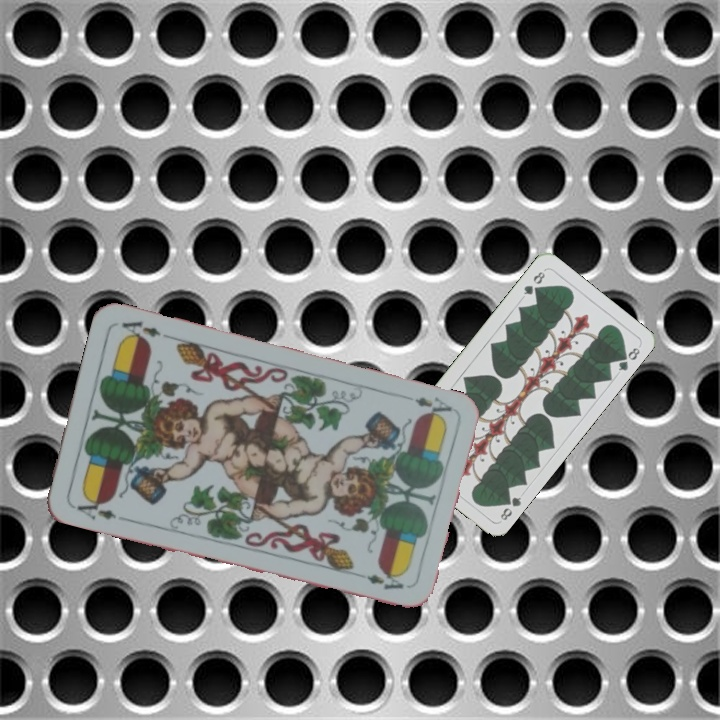EA: (68, 492, 119, 523), (411, 392, 455, 422)
G8: (519, 266, 548, 298), (496, 492, 524, 523)
